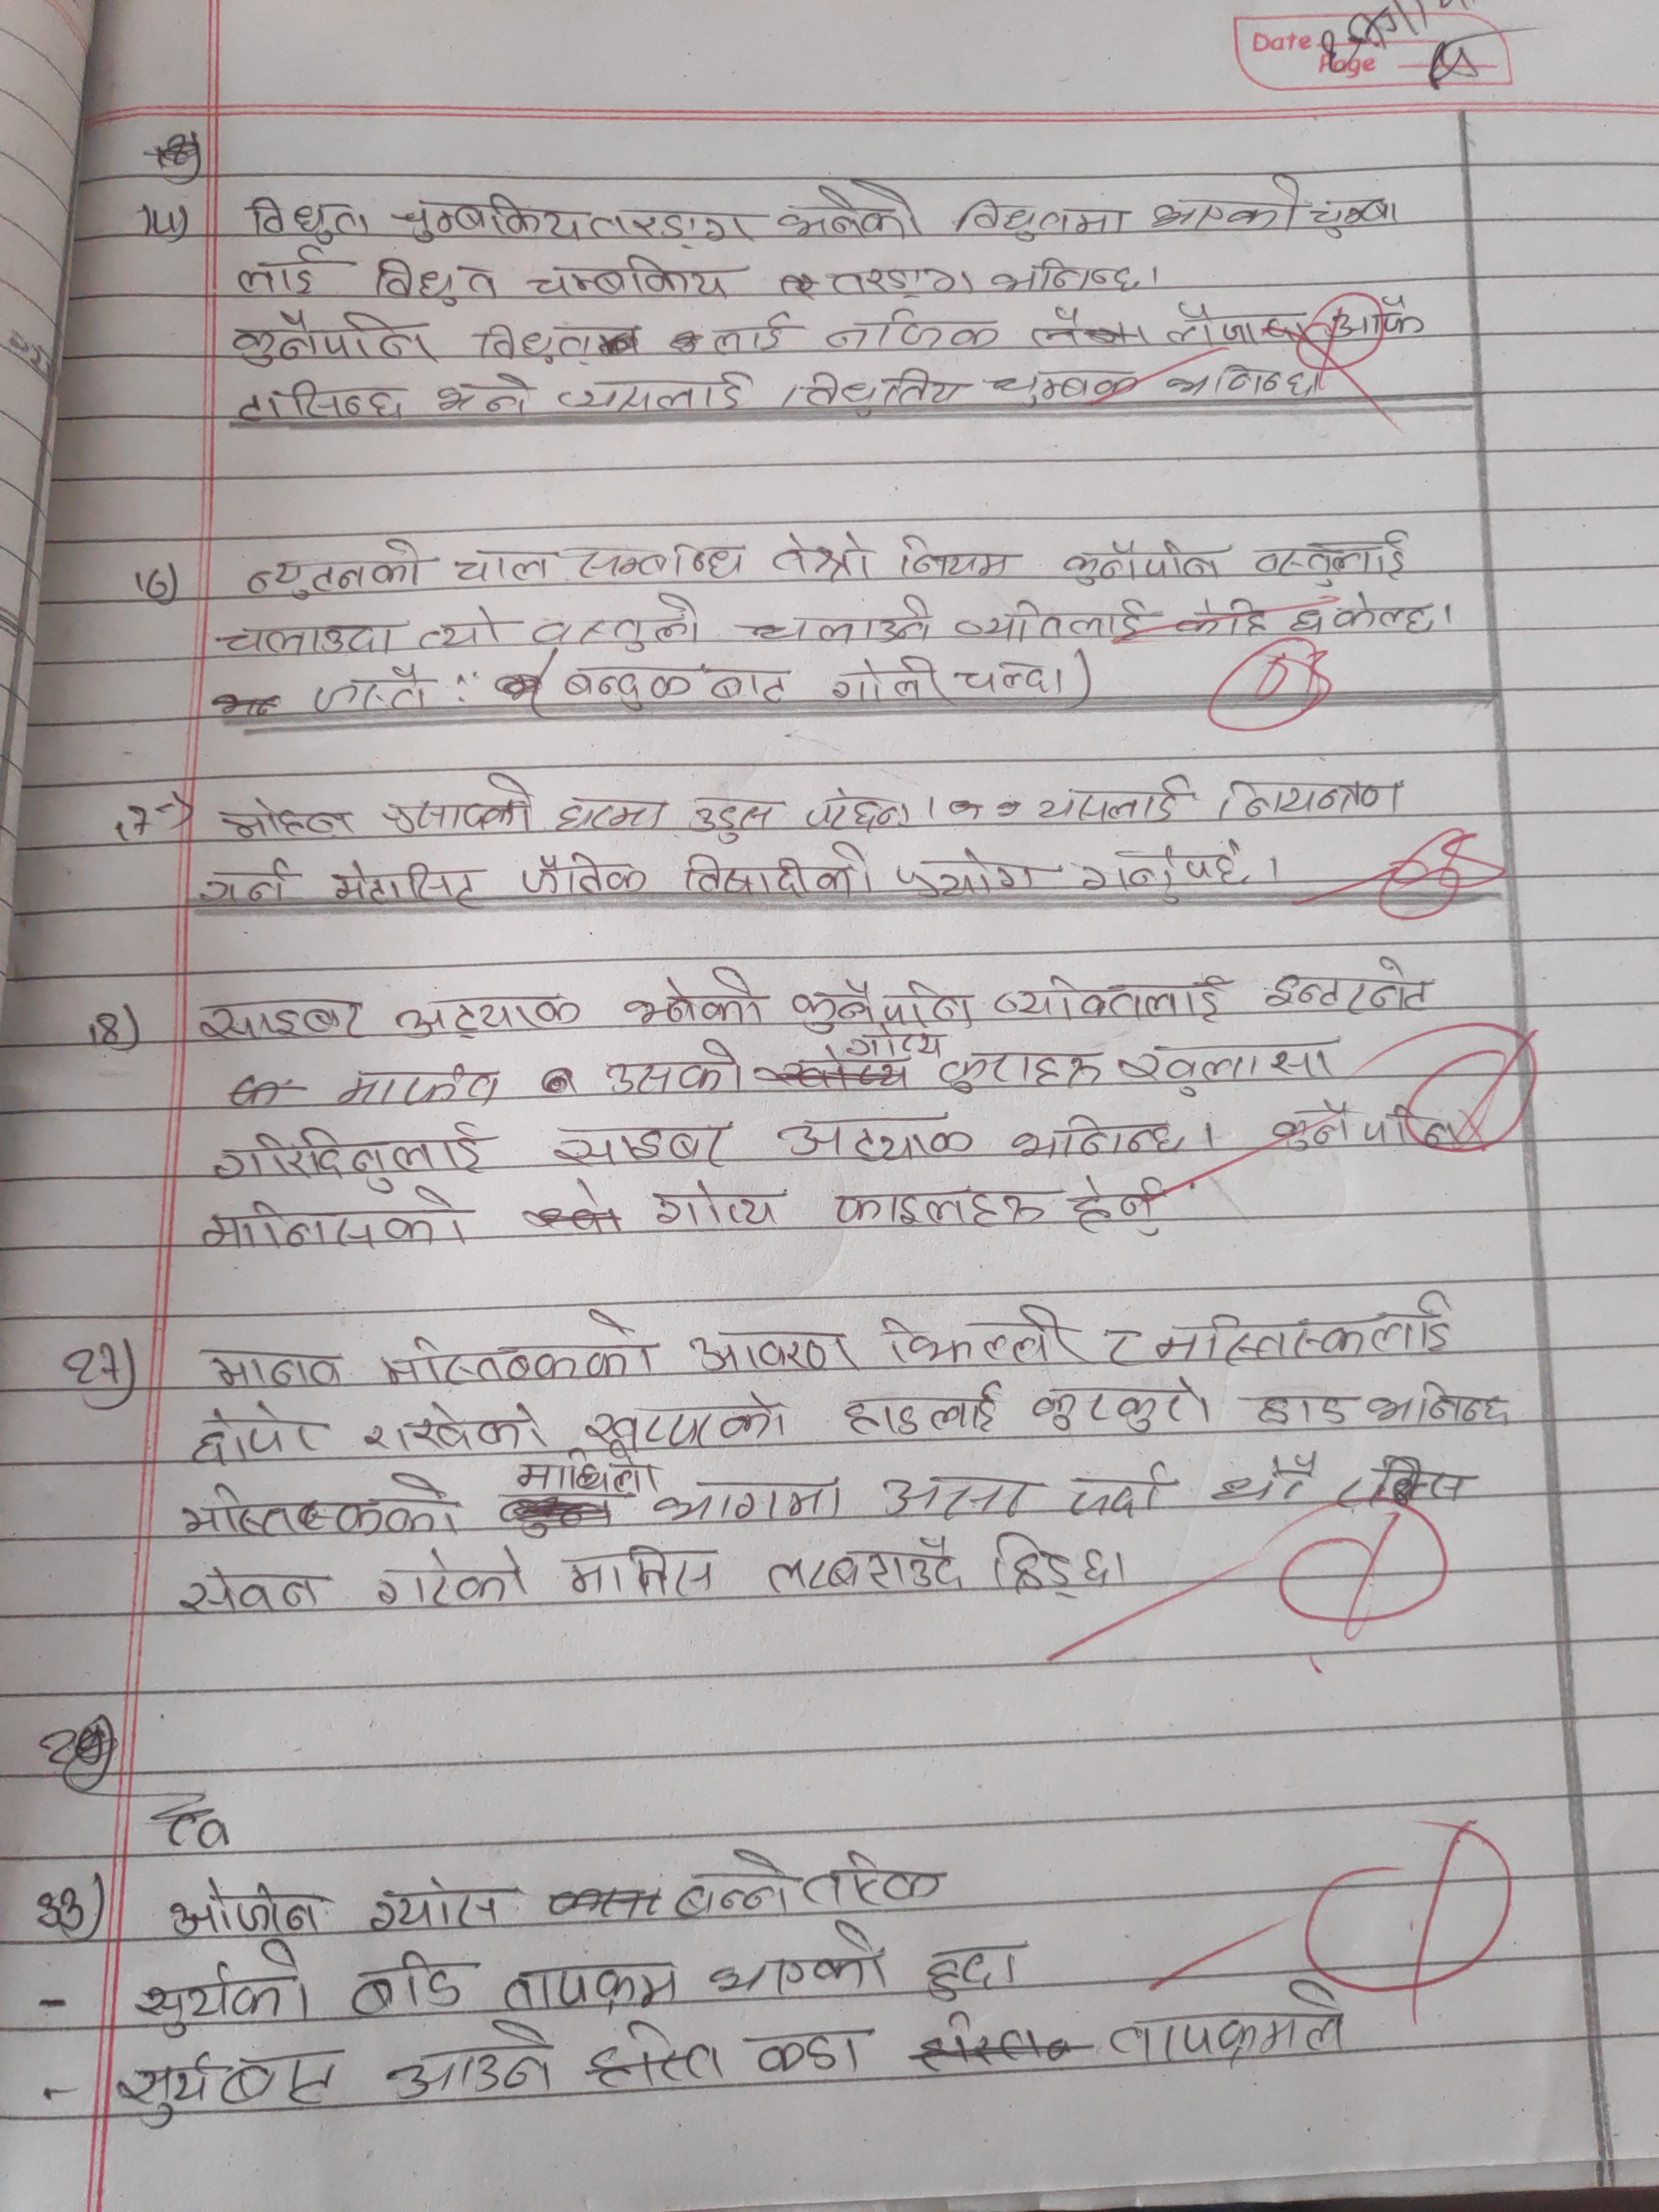text: (375, 1312, 660, 1392), (1101, 1982, 1358, 2062), (1157, 1289, 1455, 1357), (178, 1468, 465, 1538), (209, 1120, 495, 1190), (382, 195, 756, 247), (197, 1184, 476, 1252), (132, 1937, 310, 2041), (115, 2047, 342, 2127), (708, 1918, 899, 2001), (387, 2019, 558, 2106), (884, 1301, 1087, 1371), (762, 1534, 965, 1599), (228, 308, 439, 369), (1121, 1043, 1344, 1099), (676, 845, 885, 904), (559, 662, 793, 712), (582, 1393, 793, 1449), (824, 1179, 1049, 1231), (1030, 1376, 1216, 1439), (244, 536, 423, 599), (380, 773, 538, 843), (791, 975, 981, 1033), (1077, 841, 1251, 902), (392, 984, 582, 1040), (739, 594, 934, 648), (1270, 954, 1438, 1017), (498, 1958, 687, 2013), (361, 1402, 547, 1458), (995, 977, 1223, 1022), (775, 176, 924, 246), (617, 963, 769, 1031), (671, 1843, 793, 1926), (774, 1113, 979, 1162), (1148, 172, 1304, 237), (596, 1036, 751, 1101), (1004, 1109, 1188, 1163), (528, 256, 739, 303), (802, 1844, 955, 1909), (376, 1541, 528, 1606), (842, 1379, 1006, 1439), (169, 1878, 333, 1937), (687, 1324, 859, 1379), (777, 368, 974, 416), (653, 1477, 847, 1526), (532, 594, 701, 650), (192, 996, 371, 1049), (329, 852, 479, 911), (985, 1529, 1112, 1599), (547, 1120, 728, 1169), (364, 1878, 512, 1937), (1218, 777, 1412, 822), (1248, 531, 1405, 587), (188, 1400, 328, 1463), (349, 1952, 469, 2024), (556, 371, 753, 415), (1033, 773, 1192, 827), (579, 538, 753, 587), (1291, 585, 1459, 636), (565, 1545, 716, 1601), (1363, 1376, 1514, 1430), (369, 253, 505, 312), (955, 601, 1152, 641), (894, 848, 1044, 900), (338, 1062, 504, 1109), (207, 620, 410, 658), (742, 2024, 873, 2083), (237, 378, 408, 423), (873, 1472, 1039, 1517), (174, 1568, 328, 1616), (824, 310, 1002, 352), (936, 1050, 1100, 1096), (920, 1937, 1026, 2006), (648, 1177, 784, 1231), (521, 846, 648, 904), (1164, 357, 1324, 402), (1065, 543, 1230, 587), (958, 197, 1129, 239), (1173, 294, 1314, 345), (1065, 1167, 1164, 1238), (1209, 1449, 1321, 1512), (469, 315, 598, 369), (216, 796, 357, 845), (247, 192, 375, 246), (992, 254, 1145, 298), (310, 665, 437, 718), (207, 1346, 343, 1395), (512, 1446, 659, 1491), (1063, 1460, 1176, 1517), (894, 531, 1019, 582), (830, 651, 945, 705), (993, 366, 1141, 408), (554, 789, 676, 836), (824, 266, 979, 303), (1317, 291, 1429, 341), (1363, 1101, 1464, 1157), (767, 533, 882, 578), (432, 369, 535, 420), (955, 657, 1066, 702), (805, 786, 917, 831), (195, 859, 295, 909), (448, 543, 554, 589), (1171, 596, 1277, 641), (1269, 1099, 1354, 1155), (688, 791, 777, 843), (234, 246, 322, 296), (1307, 195, 1403, 240), (1248, 1390, 1351, 1432), (416, 606, 509, 650), (714, 312, 798, 355), (843, 1029, 945, 1055), (1094, 1322, 1147, 1367)
